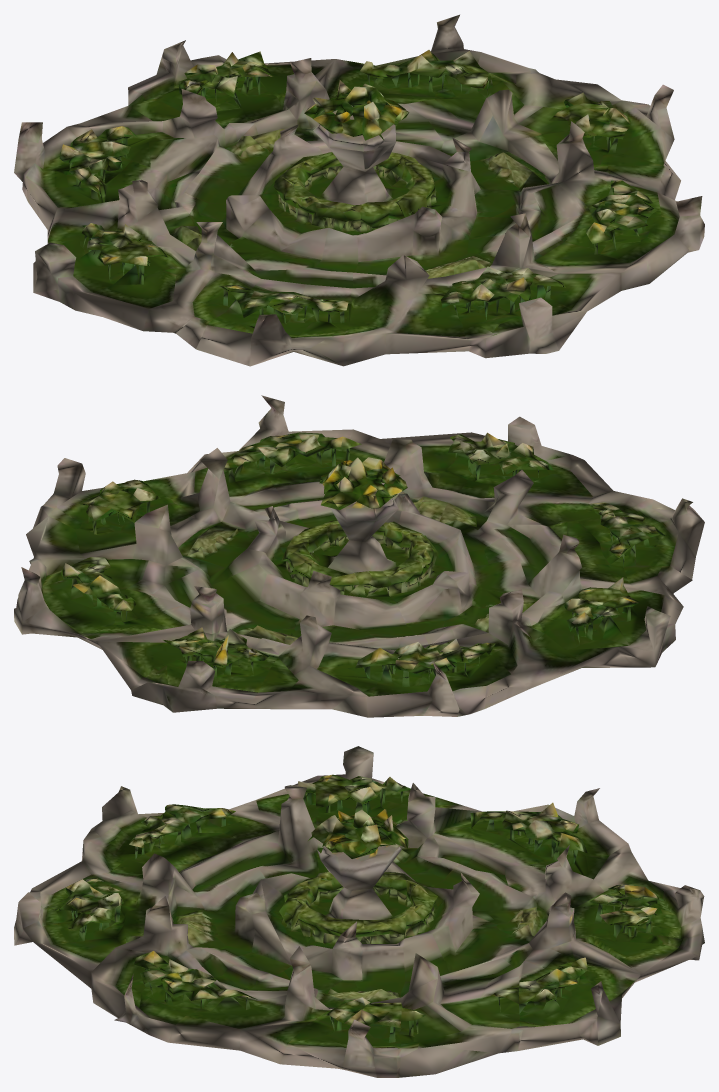
Rendered from flower_bed_square_b.glb.
3 views of the same model, one above another, from view 1: azimuth 30°, elevation 25°; view 2: azimuth 150°, elevation 25°; view 3: azimuth 270°, elevation 25° (orthographic). The views are drawn at different scales.
Visible parts, largest first — view 1: tripo_node_1ba8869e-070d-450a-acfc-a7d9860ff6f3; view 2: tripo_node_1ba8869e-070d-450a-acfc-a7d9860ff6f3; view 3: tripo_node_1ba8869e-070d-450a-acfc-a7d9860ff6f3.
Part boxes in pixels (<box>): tripo_node_1ba8869e-070d-450a-acfc-a7d9860ff6f3: <box>14,14,704,366</box>; tripo_node_1ba8869e-070d-450a-acfc-a7d9860ff6f3: <box>14,395,704,717</box>; tripo_node_1ba8869e-070d-450a-acfc-a7d9860ff6f3: <box>14,746,704,1077</box>.
Bounding box in the file's own units: 0.9714 × 0.1979 × 0.9759.
Materials: 1 (1 with a texture image).
